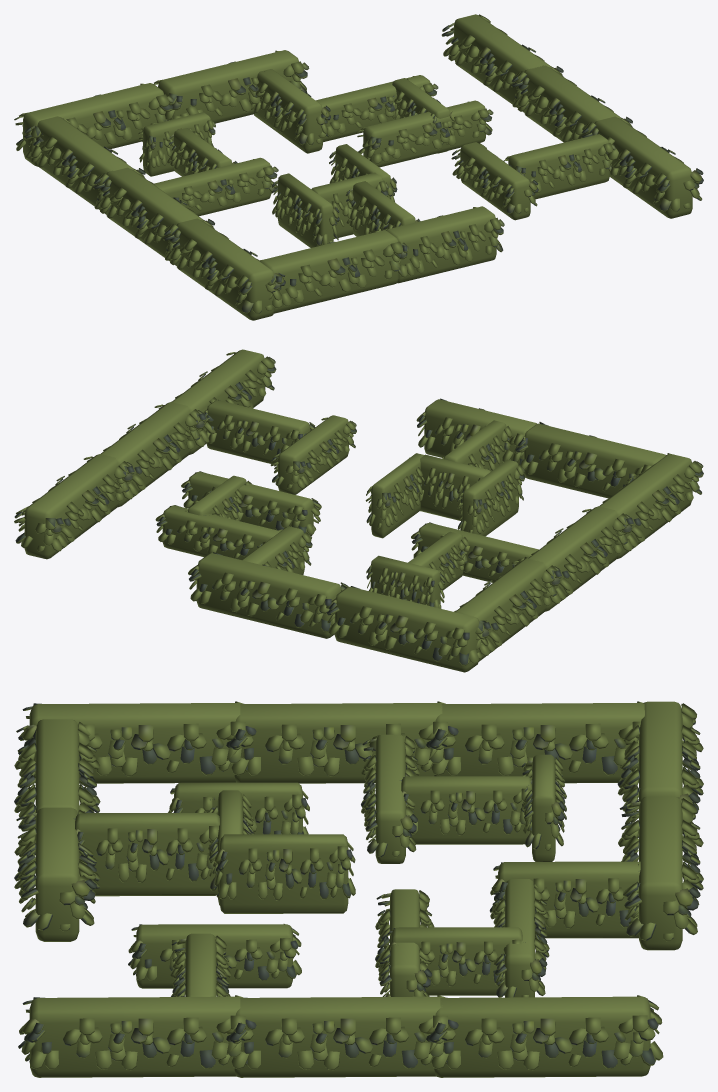
Rendered from Labyrinthe2.fbx.
The picture shows the model from 3 angles, top to bottom: view 1: azimuth 30°, elevation 25°; view 2: azimuth 150°, elevation 25°; view 3: azimuth 270°, elevation 25°; orthographic projection. The views are drawn at different scales.
Parts seen in each view (by area): view 1: Box024.022; view 2: Box024.022; view 3: Box024.022.
Part boxes in pixels (left/top/right/bottom): Box024.022: left=14, top=14, right=703, bottom=320; Box024.022: left=14, top=349, right=703, bottom=672; Box024.022: left=14, top=701, right=703, bottom=1077.
Bounding box in the file's own units: 2360 × 270 × 2080.
